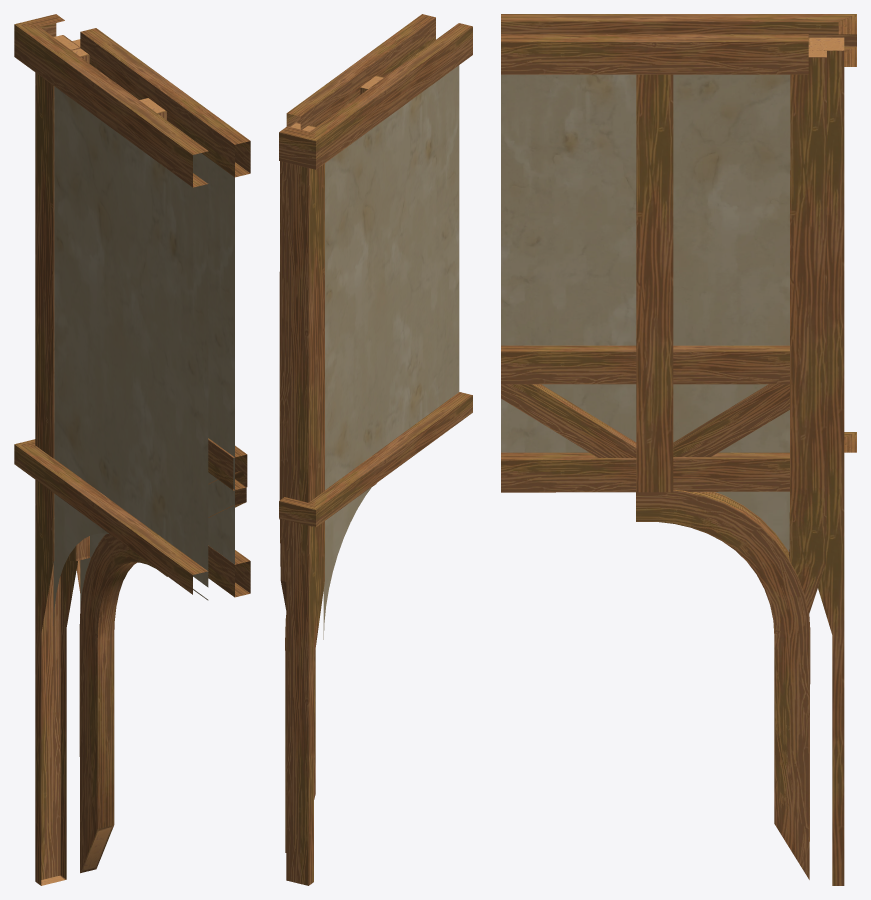
File: Overhang_Side_Plaster_Long_R.glb
3 views of the same model, side by side, from view 1: azimuth 30°, elevation 25°; view 2: azimuth 150°, elevation 25°; view 3: azimuth 270°, elevation 25° (orthographic). The views are drawn at different scales.
Parts seen in each view (by area): view 1: Overhang_Side_Plaster_Long_R; view 2: Overhang_Side_Plaster_Long_R; view 3: Overhang_Side_Plaster_Long_R.
Boxes of the visible parts, x1=… form: Overhang_Side_Plaster_Long_R: x1=14, y1=14, x2=250, y2=885; Overhang_Side_Plaster_Long_R: x1=279, y1=14, x2=472, y2=885; Overhang_Side_Plaster_Long_R: x1=501, y1=14, x2=856, y2=885.
Bounding box in the file's own units: 0.4794 × 6.12 × 2.31.
2 materials, 2 textured.
